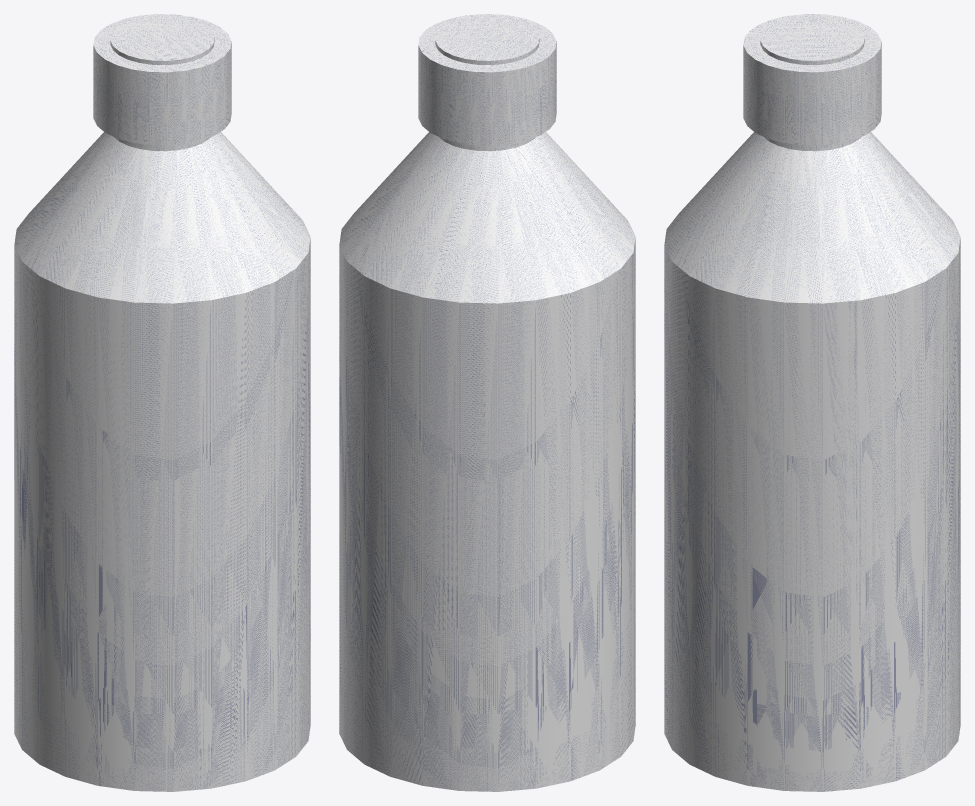
File: bottle.dae
The picture shows the model from 3 angles, left to right: view 1: azimuth 30°, elevation 25°; view 2: azimuth 150°, elevation 25°; view 3: azimuth 270°, elevation 25°; orthographic projection.
Visible parts, largest first — view 1: SketchUp (×2); view 2: SketchUp (×2); view 3: SketchUp (×2).
Part boxes in pixels (bbox=[...]): SketchUp (×2): bbox=[14, 14, 310, 791]; SketchUp (×2): bbox=[339, 14, 635, 791]; SketchUp (×2): bbox=[664, 14, 960, 791].
Size of the model in its own units: 126 by 126 by 323.
